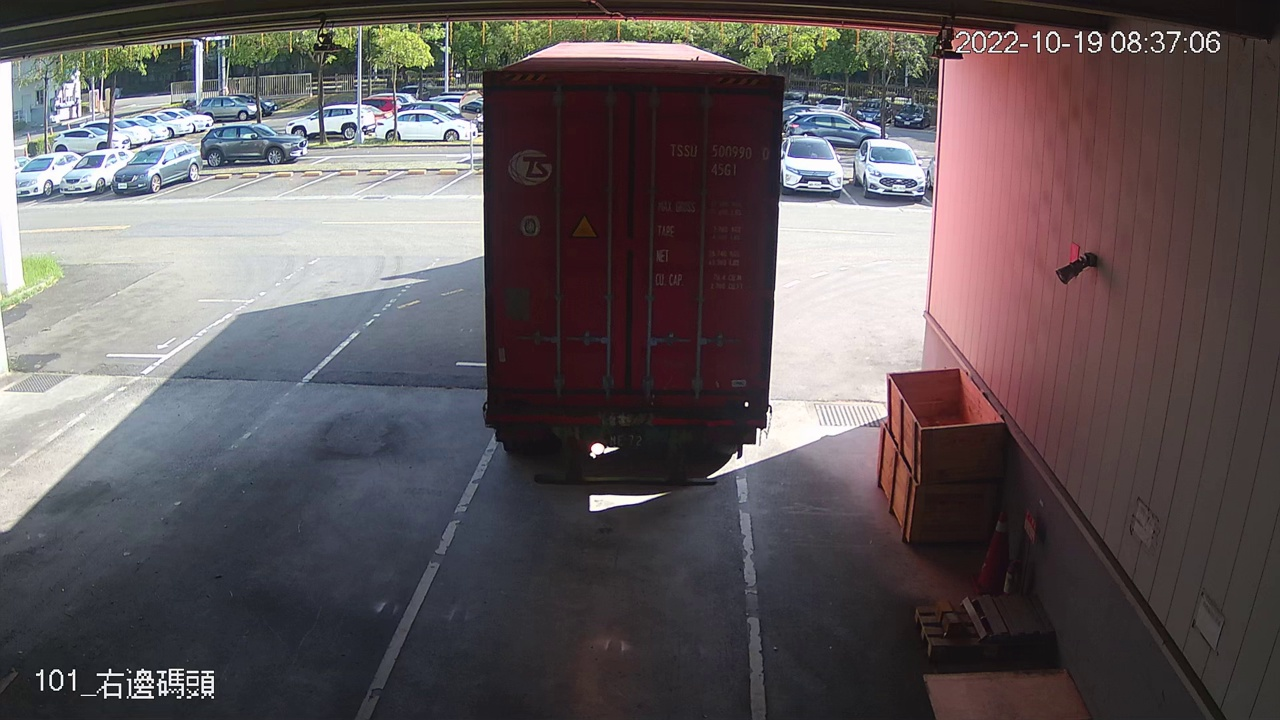container: (665, 137, 776, 179)
